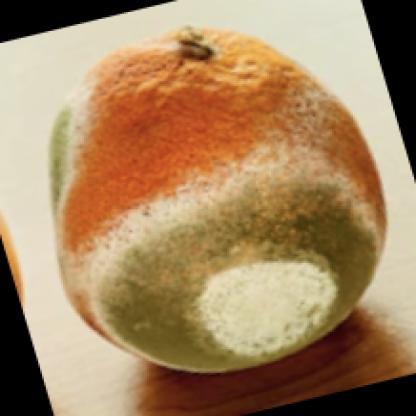rotten: (57, 34, 388, 374)
